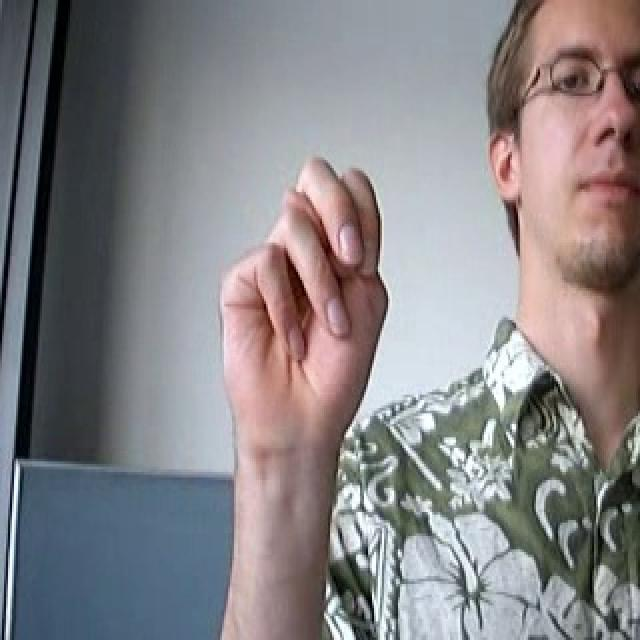N: (180, 145, 419, 511)
